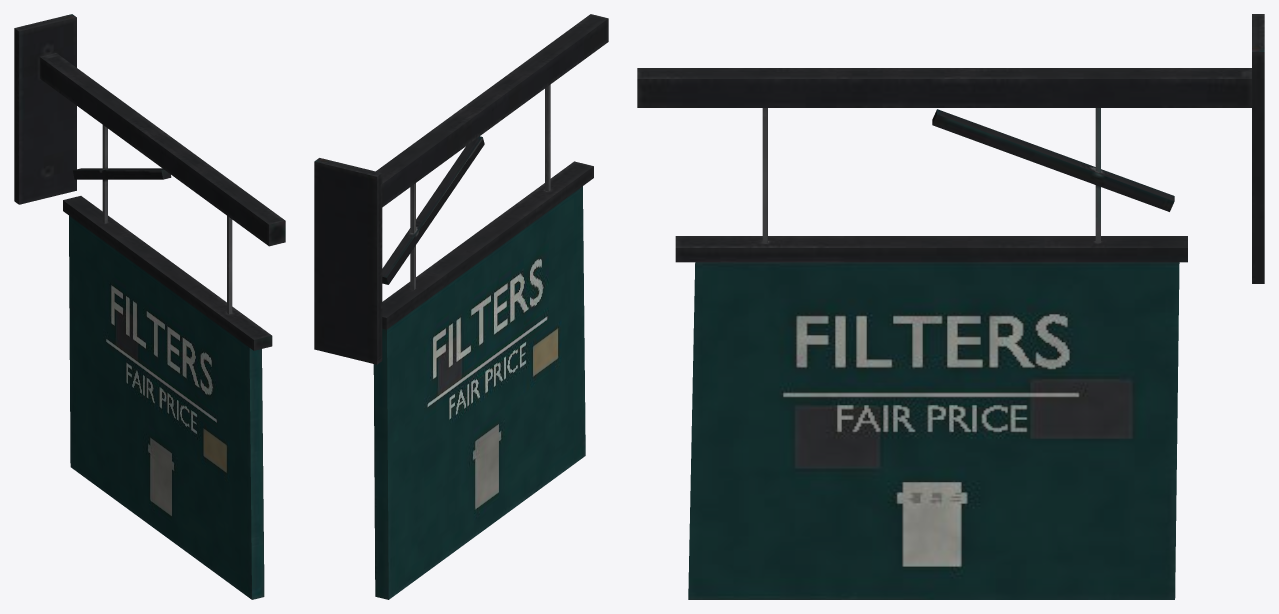
Rendered from shop_sign_filters.glb.
3 renders of one model, left to right at view 1: azimuth 30°, elevation 25°; view 2: azimuth 150°, elevation 25°; view 3: azimuth 270°, elevation 25°, orthographic. The views are drawn at different scales.
Parts seen in each view (by area): view 1: shop_sign_filters; view 2: shop_sign_filters; view 3: shop_sign_filters.
Boxes of the visible parts, x1=… form: shop_sign_filters: x1=14, y1=14, x2=285, y2=599; shop_sign_filters: x1=314, y1=14, x2=608, y2=599; shop_sign_filters: x1=637, y1=14, x2=1264, y2=599.
Size of the model in its own units: 0.14 by 0.97 by 0.98.
1 material, 1 textured.
